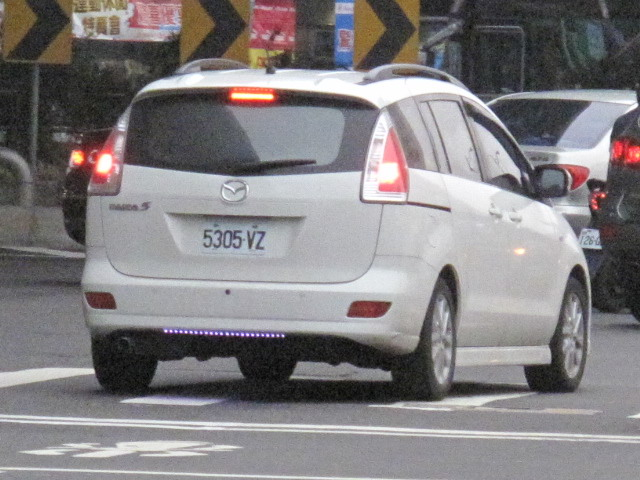plate: (199, 216, 270, 256)
